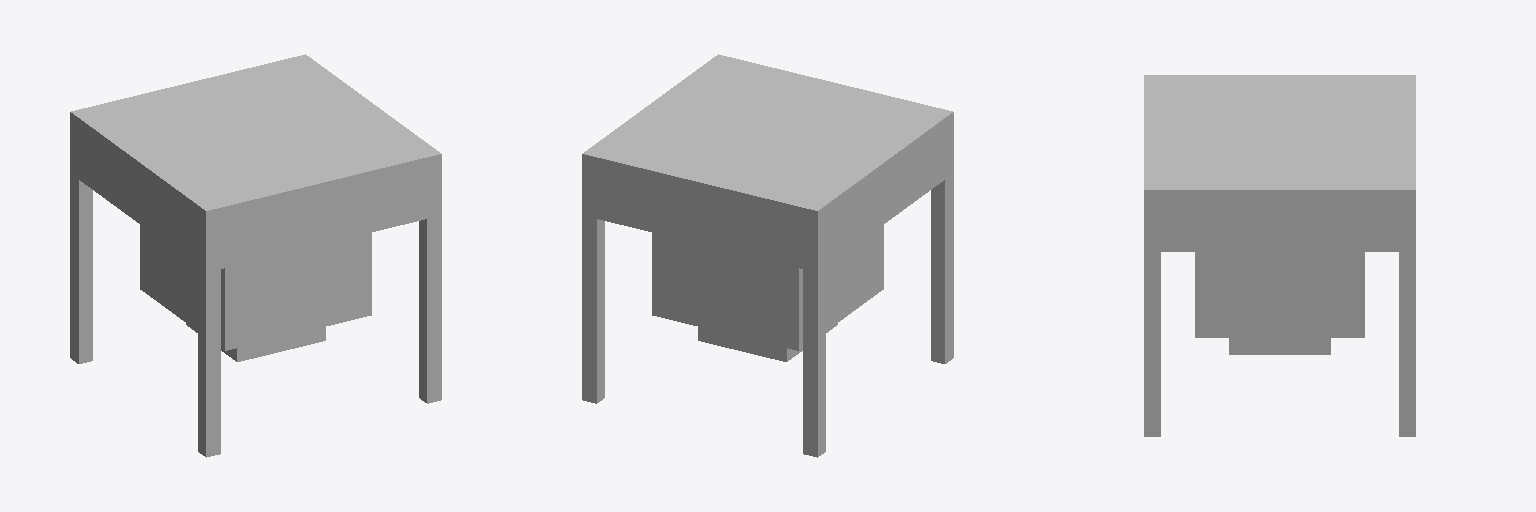
Rendered from steam_distiller_top.obj.
3 views of the same model, side by side, from view 1: azimuth 30°, elevation 25°; view 2: azimuth 150°, elevation 25°; view 3: azimuth 270°, elevation 25° (orthographic).
Visible parts, largest first — view 1: top, boiler, strut, strut2, strut4, lip_long2; view 2: top, boiler, strut4, strut3, strut, lip_long; view 3: top, boiler, strut2, strut3, lip_short.
Boxes of the visible parts, x1,y1,x2,y2 form: top: [70, 54, 441, 272]; boiler: [140, 225, 371, 350]; strut: [198, 267, 220, 457]; strut2: [419, 215, 441, 403]; strut4: [70, 174, 92, 363]; lip_long2: [229, 327, 325, 361]; top: [582, 54, 953, 272]; boiler: [652, 225, 883, 350]; strut4: [803, 267, 825, 457]; strut3: [582, 215, 604, 403]; strut: [931, 174, 953, 363]; lip_long: [698, 327, 794, 361]; top: [1144, 75, 1415, 251]; boiler: [1195, 252, 1364, 337]; strut2: [1144, 252, 1160, 436]; strut3: [1399, 252, 1415, 436]; lip_short: [1246, 339, 1313, 354].
Size of the model in its own units: 1 by 1 by 1.